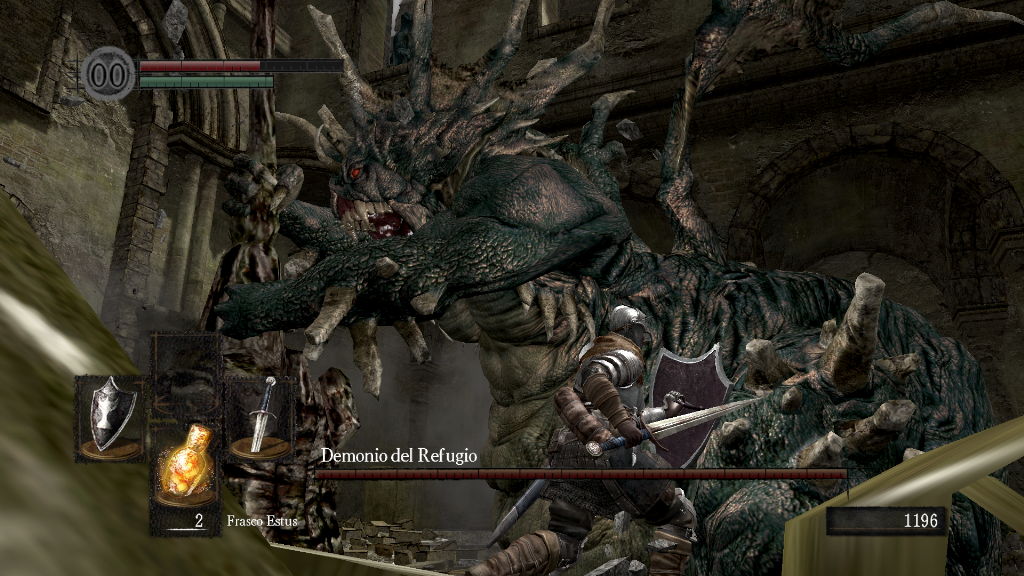asylumDemon: (149, 1, 1007, 576)
bossHP: (314, 469, 847, 479)
health: (138, 58, 343, 71)
humanity: (80, 45, 136, 102)
player: (462, 304, 770, 576)
souls: (825, 506, 945, 536)
stamina: (138, 74, 274, 88)
